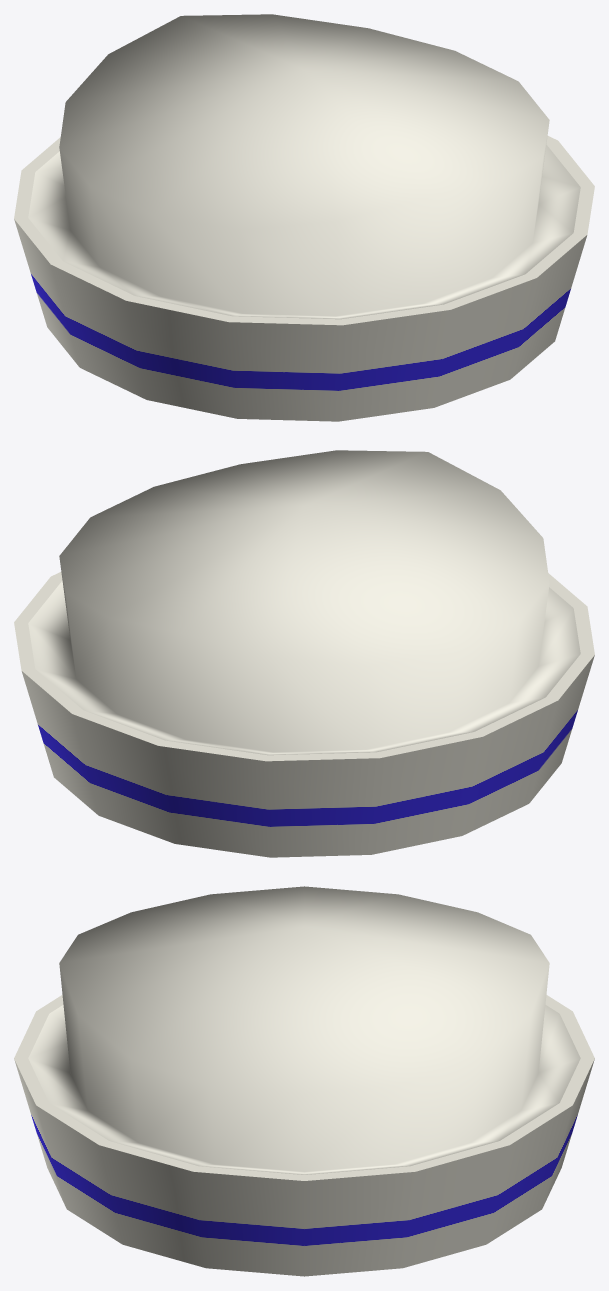
The model's file is suiheisan.fbx.
The picture shows the model from 3 angles, top to bottom: view 1: azimuth 30°, elevation 25°; view 2: azimuth 150°, elevation 25°; view 3: azimuth 270°, elevation 25°; orthographic projection.
Visible parts, largest first — view 1: pCylinder1; view 2: pCylinder1; view 3: pCylinder1.
Part boxes in pixels (x1,y1,x2,y2): pCylinder1: [14, 14, 594, 421]; pCylinder1: [14, 450, 594, 857]; pCylinder1: [14, 886, 594, 1276].
Size of the model in its own units: 2.17 by 0.9919 by 2.17.
